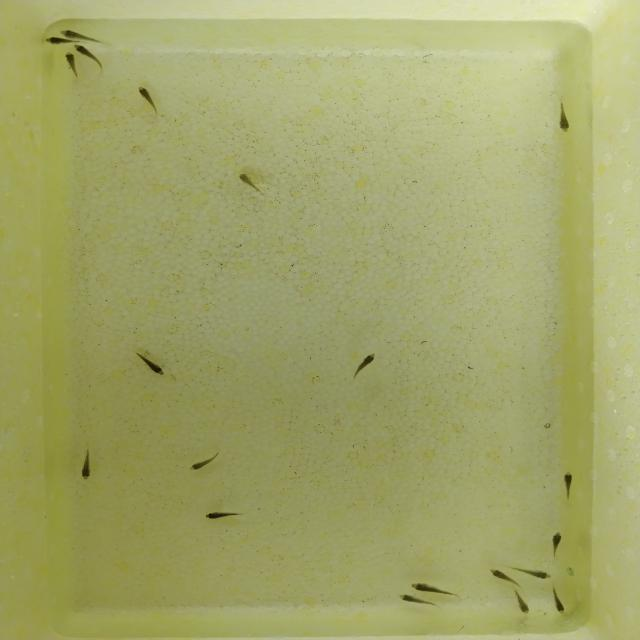fingerling: (135, 347, 169, 382), (411, 579, 465, 595), (234, 172, 271, 195), (353, 351, 379, 379), (77, 449, 100, 480), (399, 591, 436, 610), (198, 509, 252, 522), (558, 467, 578, 502), (187, 452, 220, 472), (136, 86, 158, 111), (549, 586, 566, 618), (555, 101, 570, 135), (514, 592, 537, 614), (522, 566, 558, 580), (74, 45, 102, 62), (548, 534, 566, 556), (484, 568, 510, 583), (61, 29, 92, 39), (61, 54, 80, 66), (47, 36, 68, 46)
